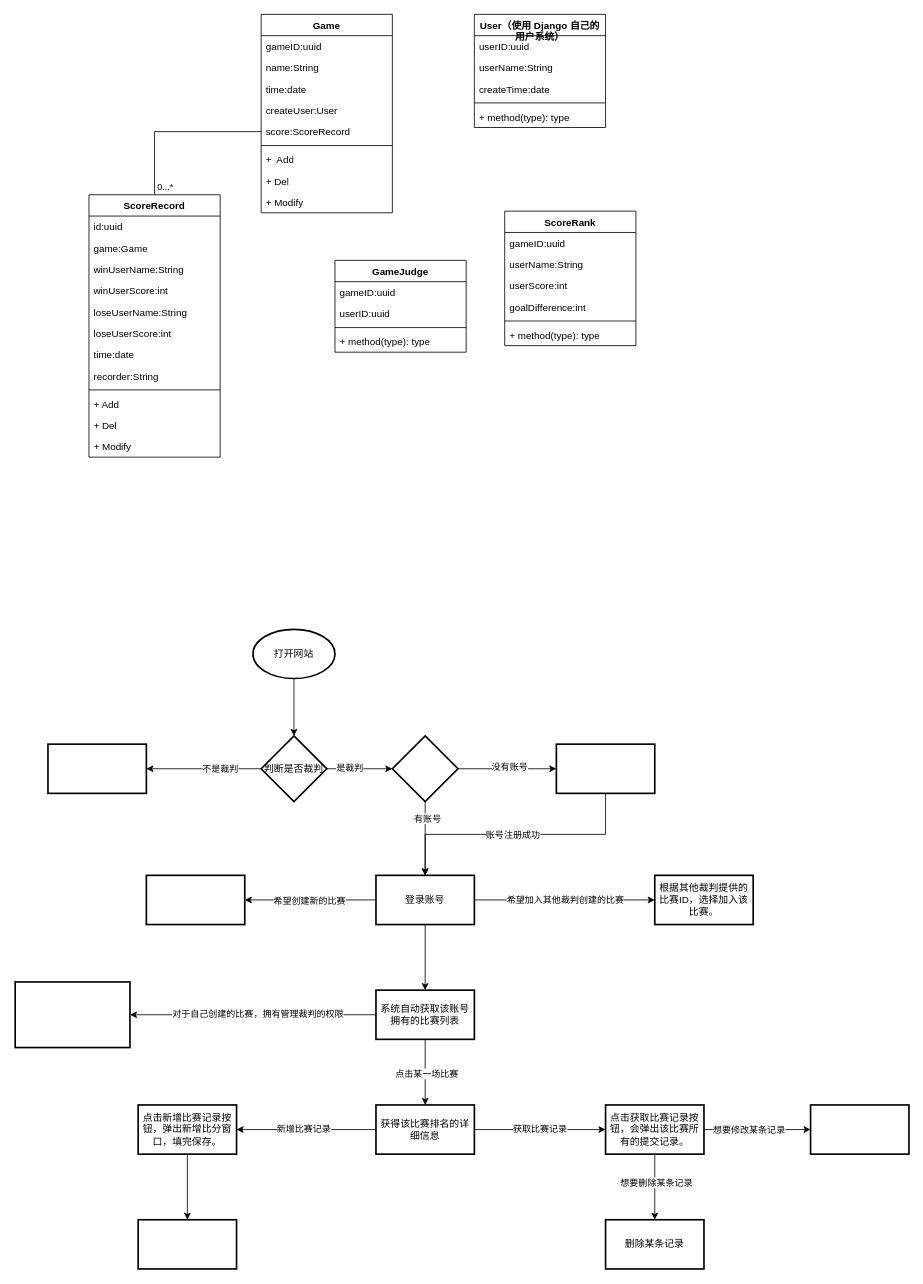
This 923x1284 diagram has some shape labels left out. The centre of each missing label's shape, as x and y in pixels:
"主页面，根据裁判提供的比赛ID，搜索比赛排名信息" goes at point 97,768.
"分数提交后，比赛的排名及时更新。" goes at point 187,1244.
"创建新的比赛" goes at point 195,899.
"判断是否有账号" goes at point 424,768.
"弹出记录修改窗口" goes at point 859,1129.
"注册账号" goes at point 605,768.
"点击裁判列表，可以查看该比赛所有裁判，裁判后面跟一个删除按钮，可以删除某个裁判。" goes at point 72,1014.
